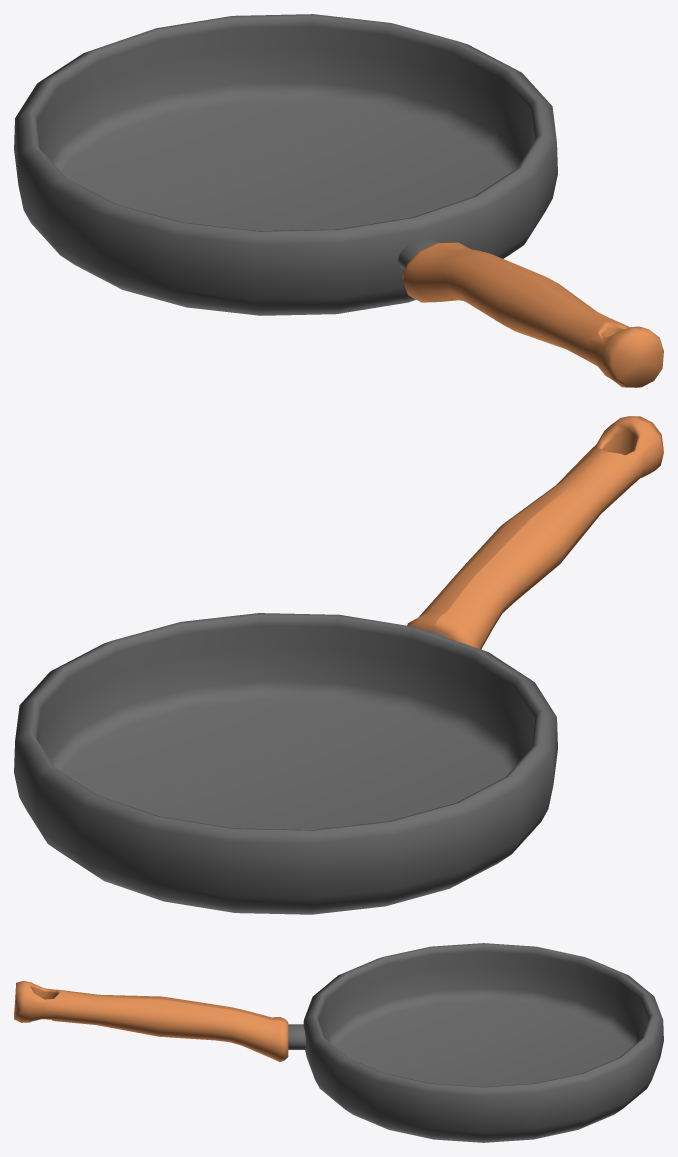
File: pan.gltf
The picture shows the model from 3 angles, top to bottom: view 1: azimuth 30°, elevation 25°; view 2: azimuth 150°, elevation 25°; view 3: azimuth 270°, elevation 25°; orthographic projection. The views are drawn at different scales.
Visible parts, largest first — view 1: pan.001; view 2: pan.001; view 3: pan.001.
Part boxes in pixels (bbox=[...]): pan.001: bbox=[14, 14, 663, 387]; pan.001: bbox=[14, 416, 663, 914]; pan.001: bbox=[14, 943, 663, 1142].
Size of the model in its own units: 5.33 by 1.5 by 9.6.
